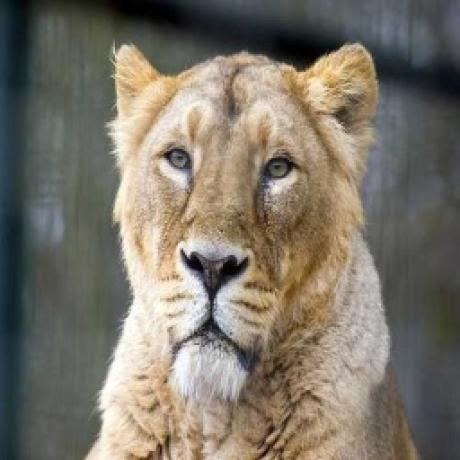Lion: (77, 26, 435, 460)
